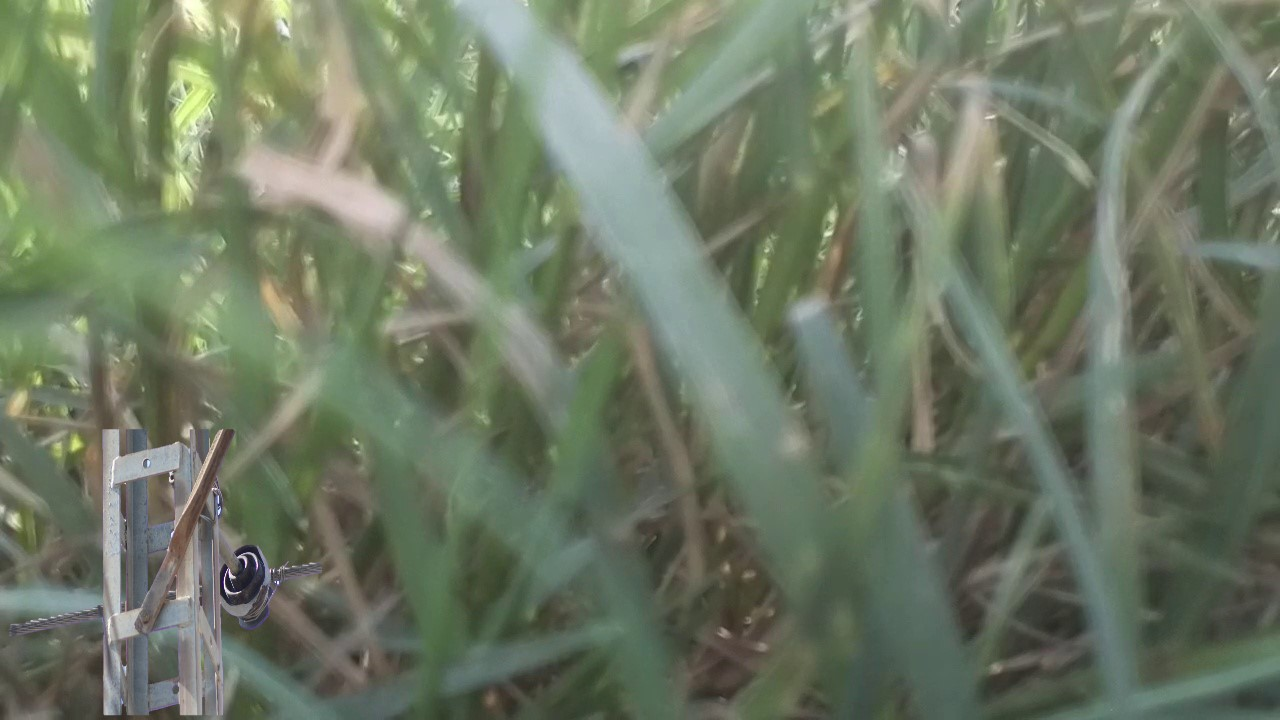defect_pin: (217, 536, 281, 635)
